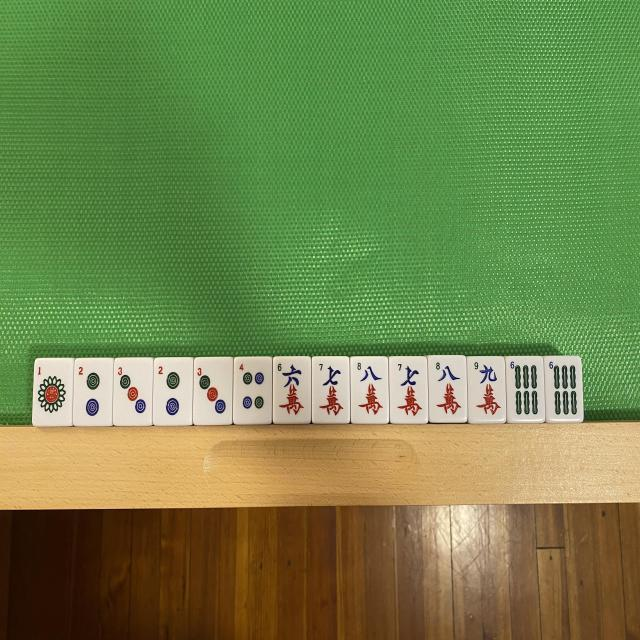sb6: (546, 358, 580, 419), (508, 358, 540, 419)
sc6: (275, 360, 309, 420)
sc7: (313, 359, 347, 422), (392, 360, 426, 422)
sc8: (430, 356, 464, 422), (352, 358, 387, 420)
sc9: (471, 358, 504, 421)
sd1: (35, 358, 69, 424)
sd2: (155, 360, 190, 423), (76, 360, 110, 422)
sd3: (115, 361, 151, 424), (196, 358, 229, 422)
sd4: (235, 360, 269, 419)
